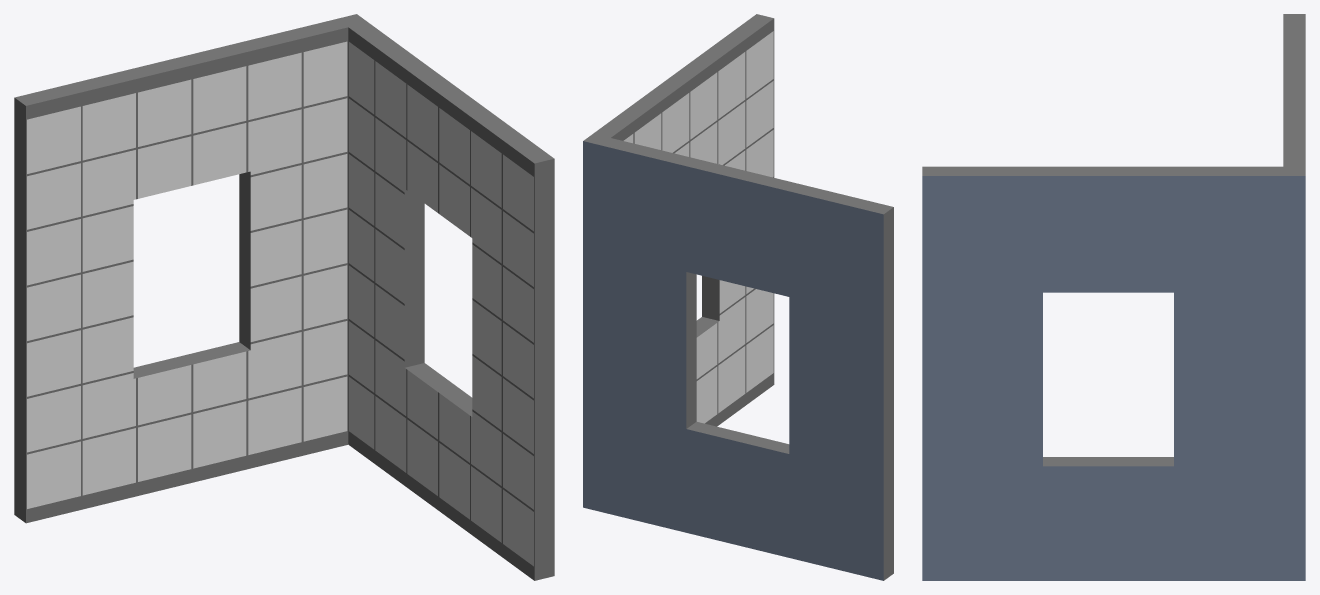
File: Wall3_C7_09.fbx
3 renders of one model, left to right at view 1: azimuth 30°, elevation 25°; view 2: azimuth 150°, elevation 25°; view 3: azimuth 270°, elevation 25°, orthographic. The views are drawn at different scales.
Parts seen in each view (by area): view 1: Wall3_C7_09; view 2: Wall3_C7_09; view 3: Wall3_C7_09.
Part boxes in pixels (x1,y1,x2,y2): Wall3_C7_09: (14, 14, 554, 580); Wall3_C7_09: (583, 14, 893, 580); Wall3_C7_09: (922, 14, 1305, 580).
Bounding box in the file's own units: 258 × 300 × 258.
